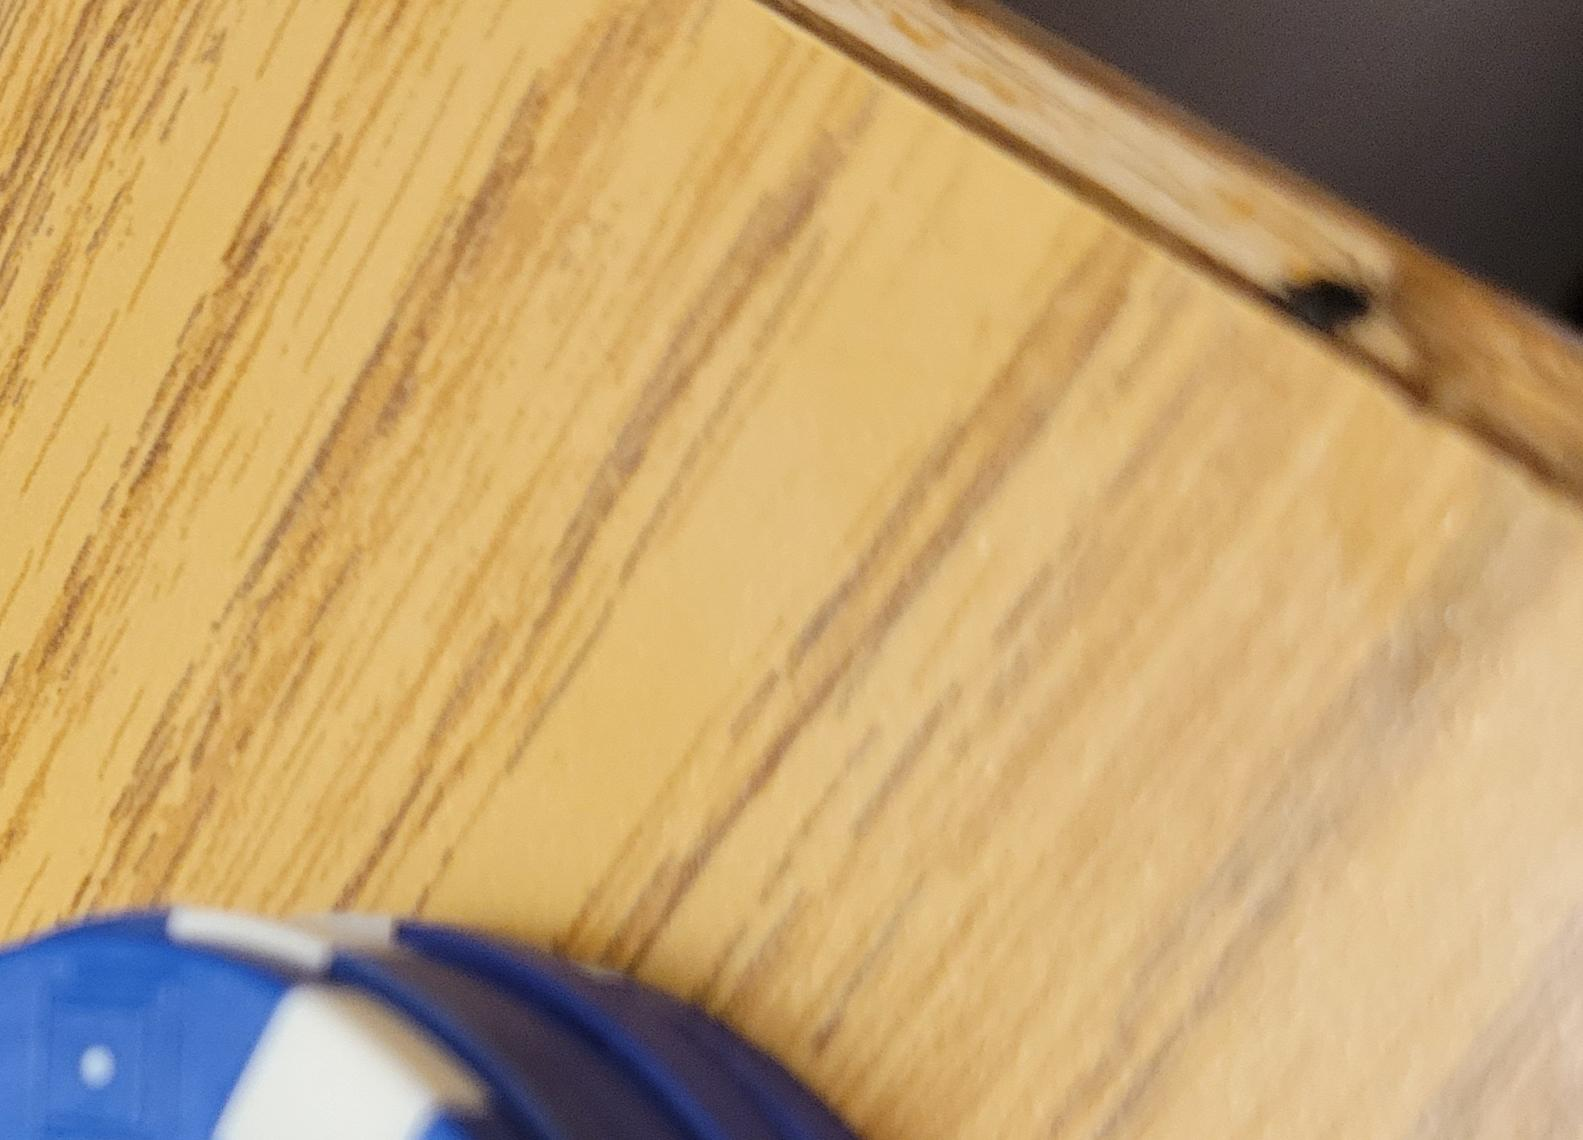Chip: (1, 187, 624, 1140)
